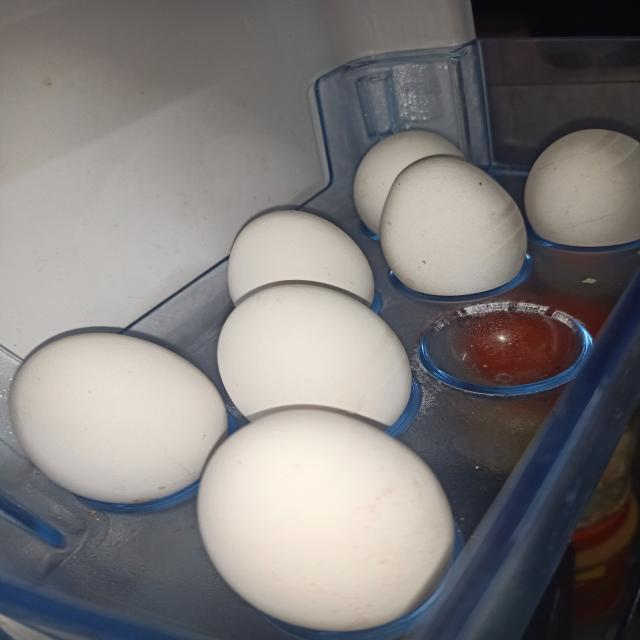Egg: (197, 409, 454, 632), (8, 333, 226, 504), (217, 284, 412, 426), (380, 156, 527, 296), (227, 210, 374, 306), (525, 128, 640, 247), (353, 130, 463, 234)
